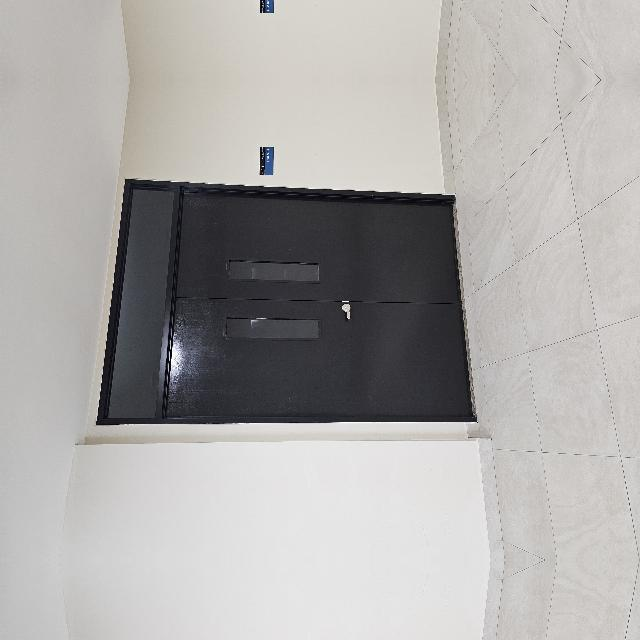door: (124, 237, 384, 548), (124, 571, 384, 640)
